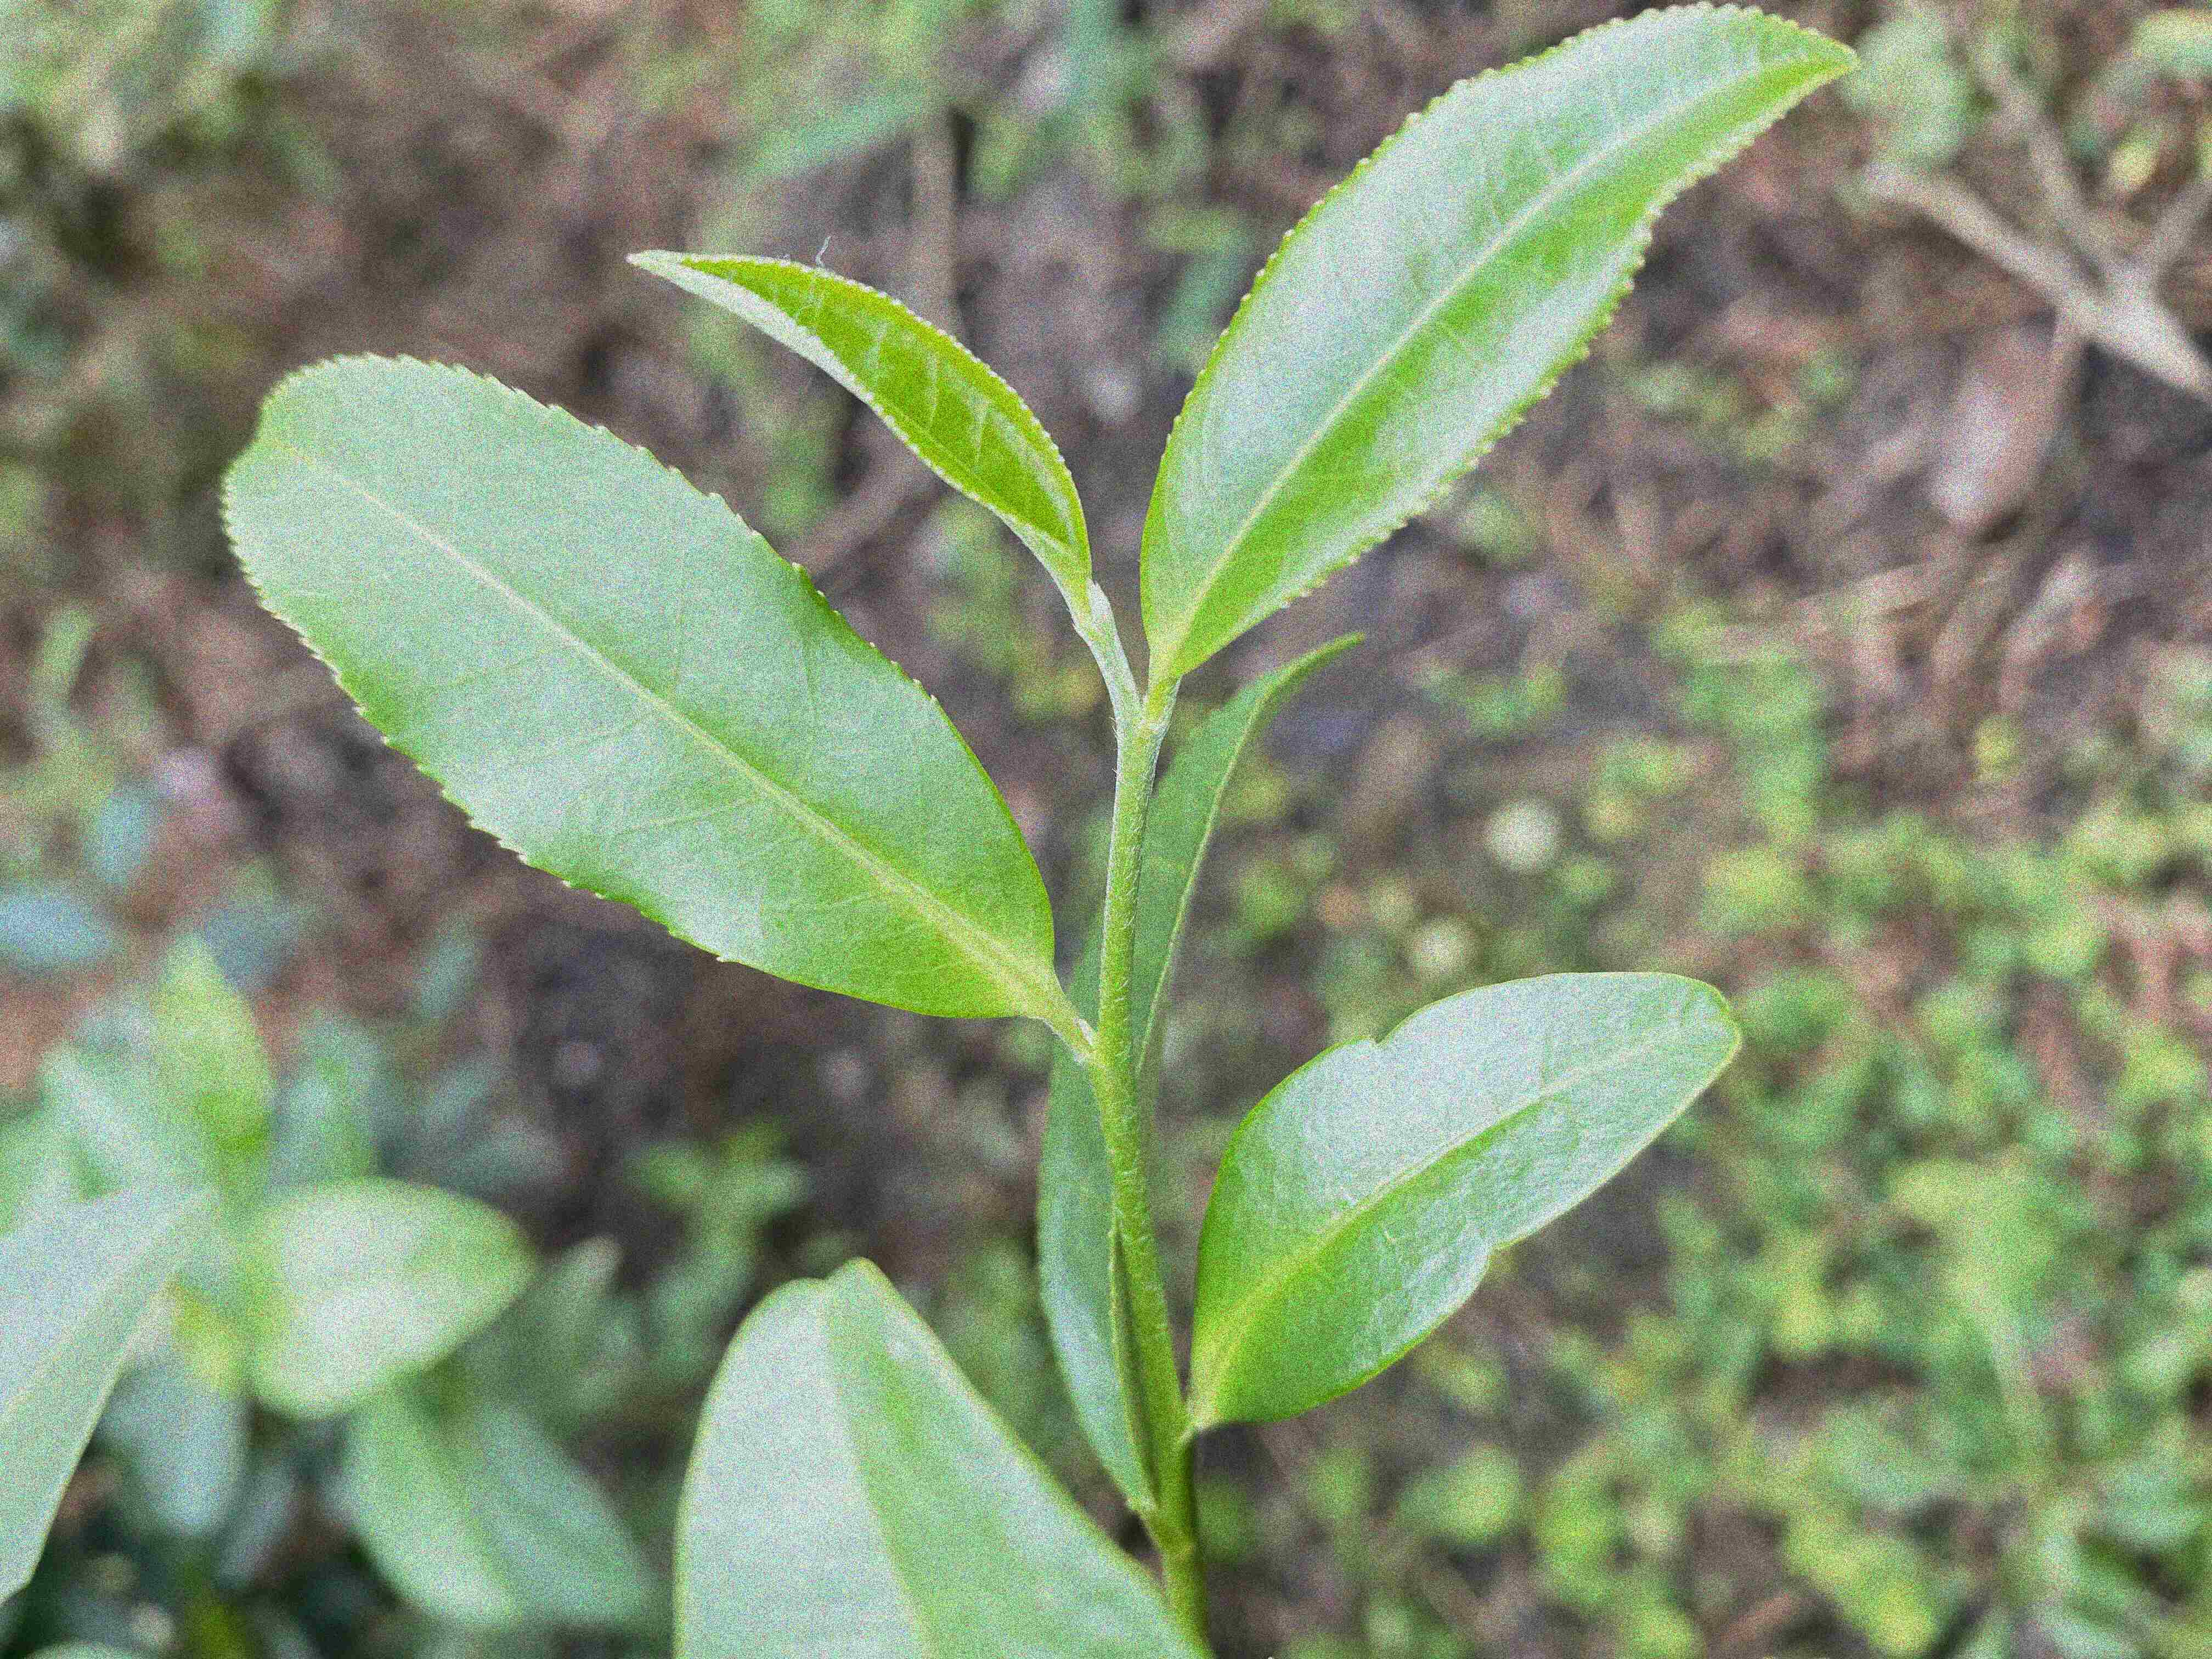healthy: (221, 350, 1054, 1023), (1137, 3, 1865, 678), (1184, 969, 1743, 1427)
